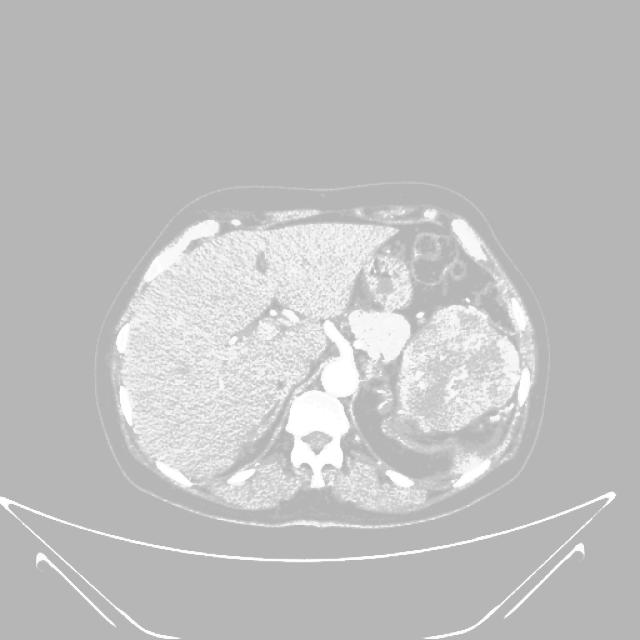TUMOR: (373, 315, 569, 455)
